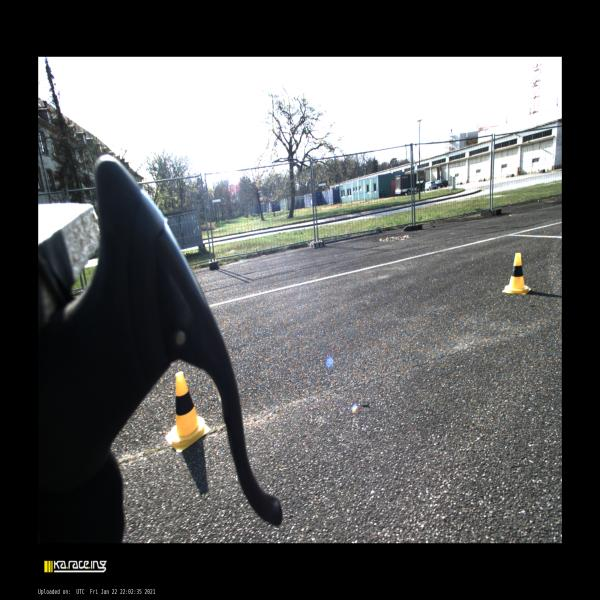yellow_cone: (165, 372, 210, 452), (503, 252, 531, 294)
